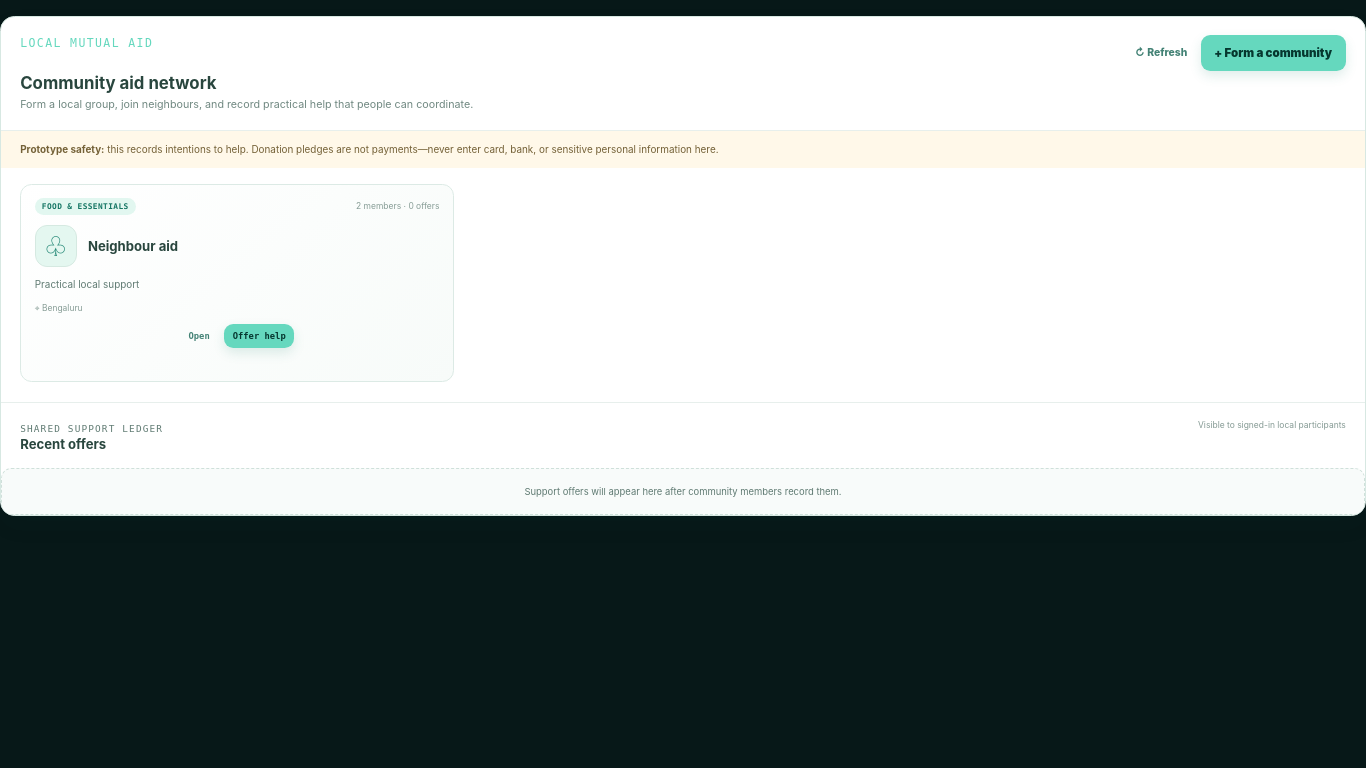
preserves the Offer help form and records a support offer
Click the button "Offer help" at (259, 336), box [224,324,294,348]
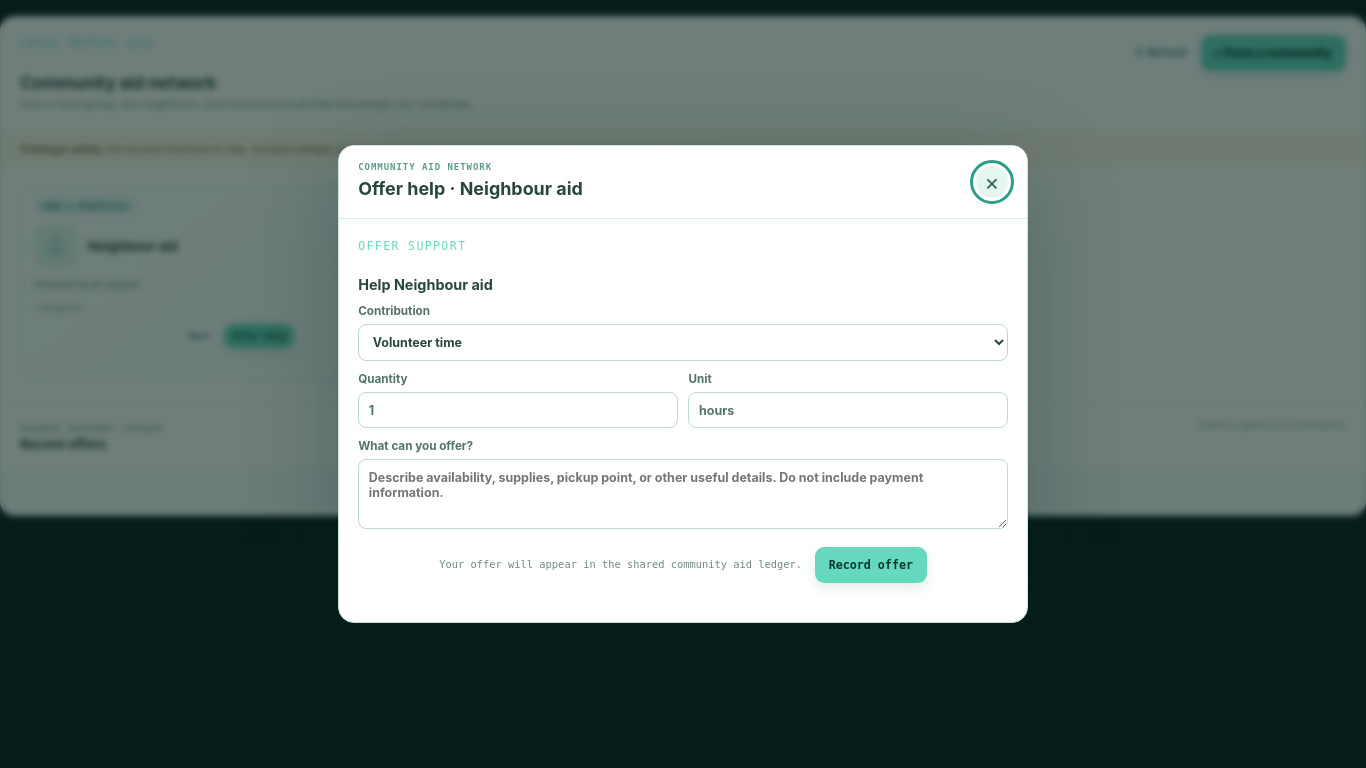
Replace the text in the text box labelled "What can you offer?" with "Available tomorrow" at (683, 494), box [358,459,1008,529]
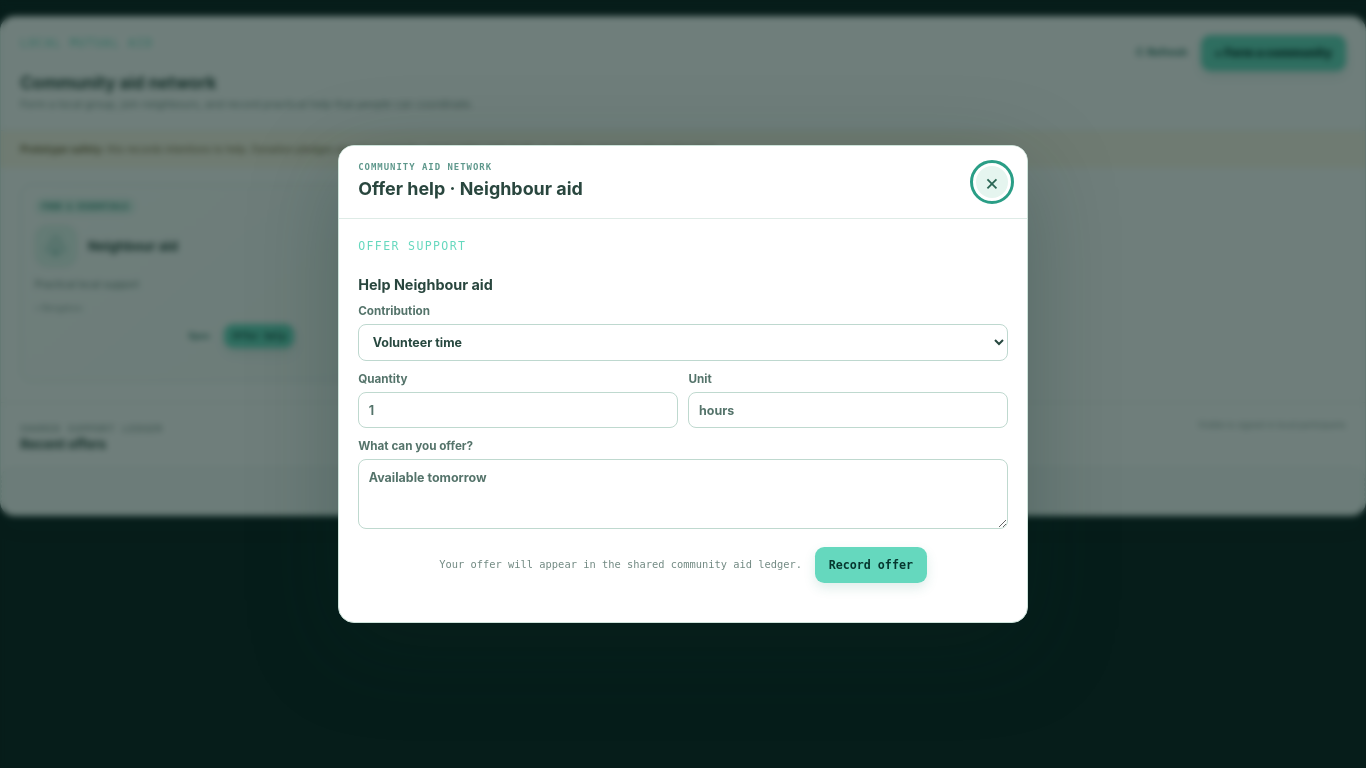
Click the button "Record offer" at (871, 565), box [815,547,927,583]
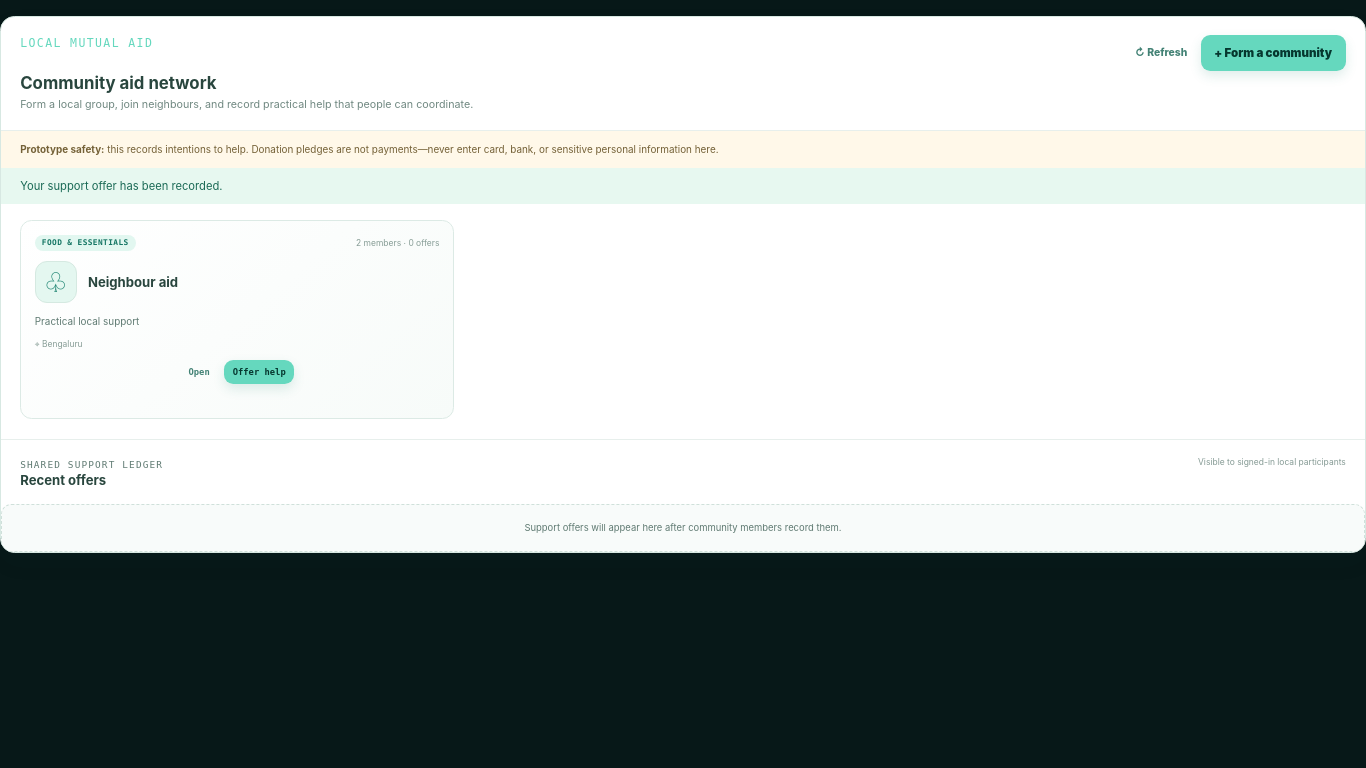
Now the text "Your support offer has been recorded." is shown, box [1,168,1365,204]
